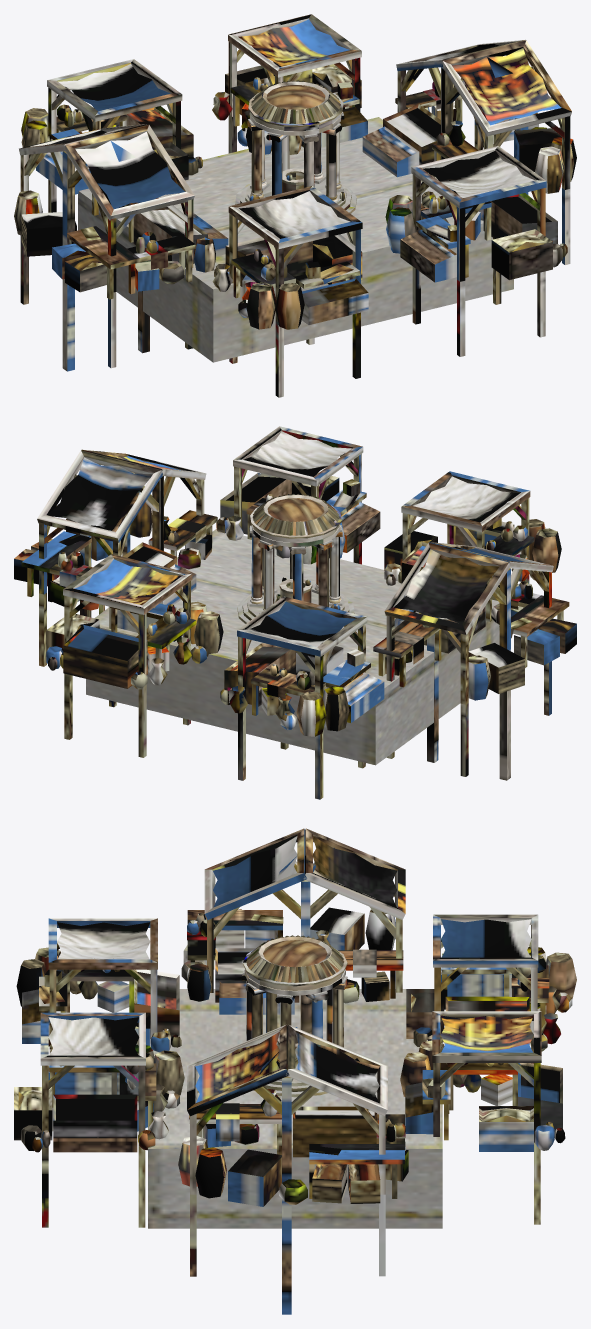
Rendered from market.glb.
The picture shows the model from 3 angles, top to bottom: view 1: azimuth 30°, elevation 25°; view 2: azimuth 150°, elevation 25°; view 3: azimuth 270°, elevation 25°; orthographic projection. The views are drawn at different scales.
Parts seen in each view (by area): view 1: market; view 2: market; view 3: market.
Part boxes in pixels (box(x1,y1,x2,y2)): market: box(14, 14, 576, 397); market: box(14, 426, 576, 799); market: box(14, 828, 576, 1314).
Bounding box in the file's own units: 4.2 × 1.79 × 3.68.
Materials: 5 (5 with a texture image).
